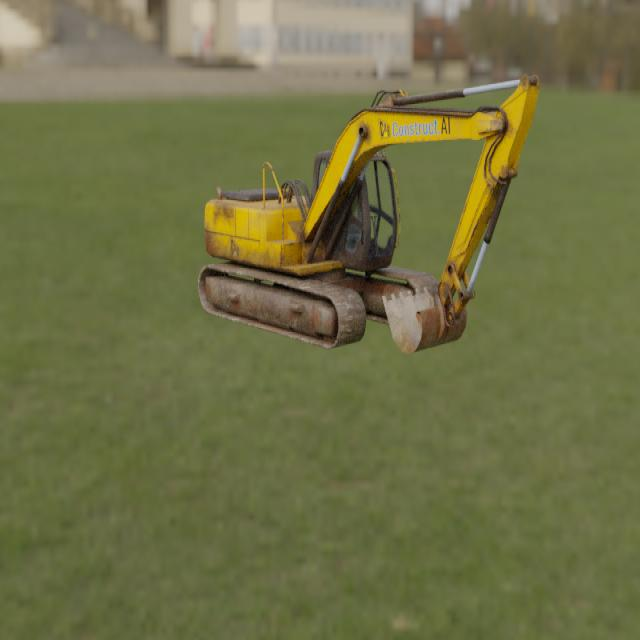excavator: (197, 74, 540, 354)
